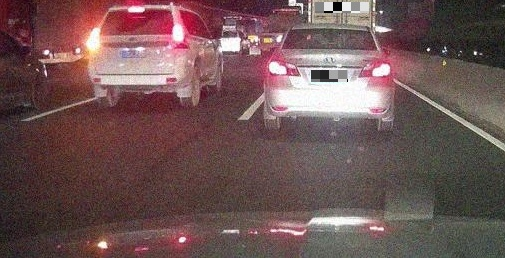L_light: (268, 60, 301, 76), (87, 28, 101, 52)
R_light: (357, 59, 391, 77), (170, 24, 190, 49)
T_light: (127, 6, 146, 13), (322, 28, 343, 31)
night-left: (87, 4, 193, 108)
night-no: (264, 23, 395, 131)
plate_1: (315, 2, 369, 13)
plate_2: (311, 70, 348, 82)
